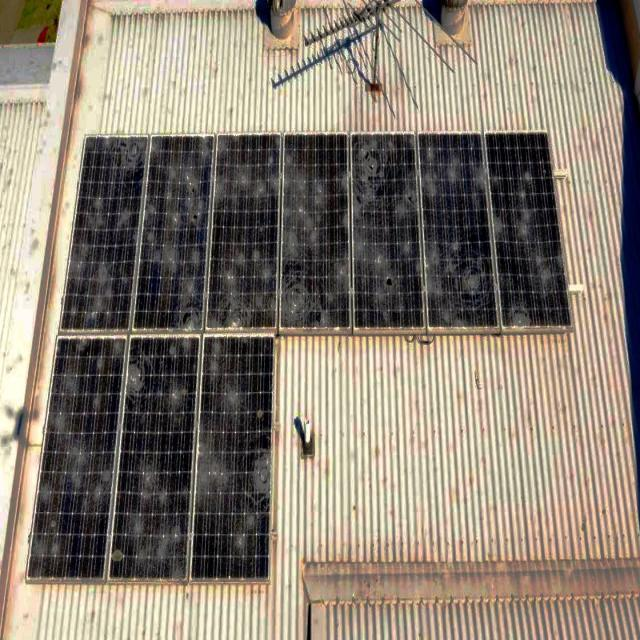faulty: (24, 326, 126, 578), (102, 330, 199, 580), (196, 338, 276, 578), (127, 128, 215, 331), (61, 137, 148, 330), (488, 130, 572, 328), (422, 127, 500, 337), (204, 131, 284, 330), (350, 120, 422, 334), (278, 126, 352, 334)
